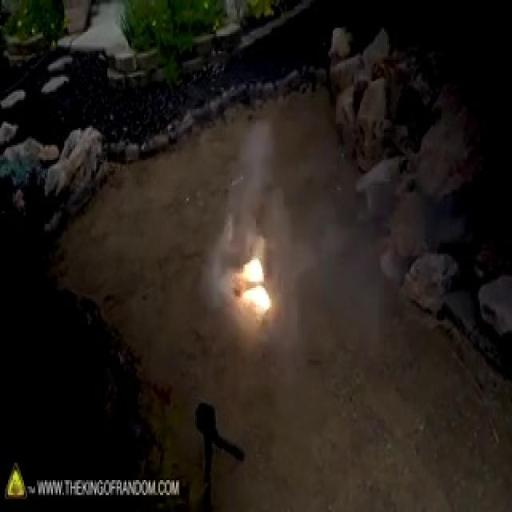smoke: (239, 246, 284, 328)
